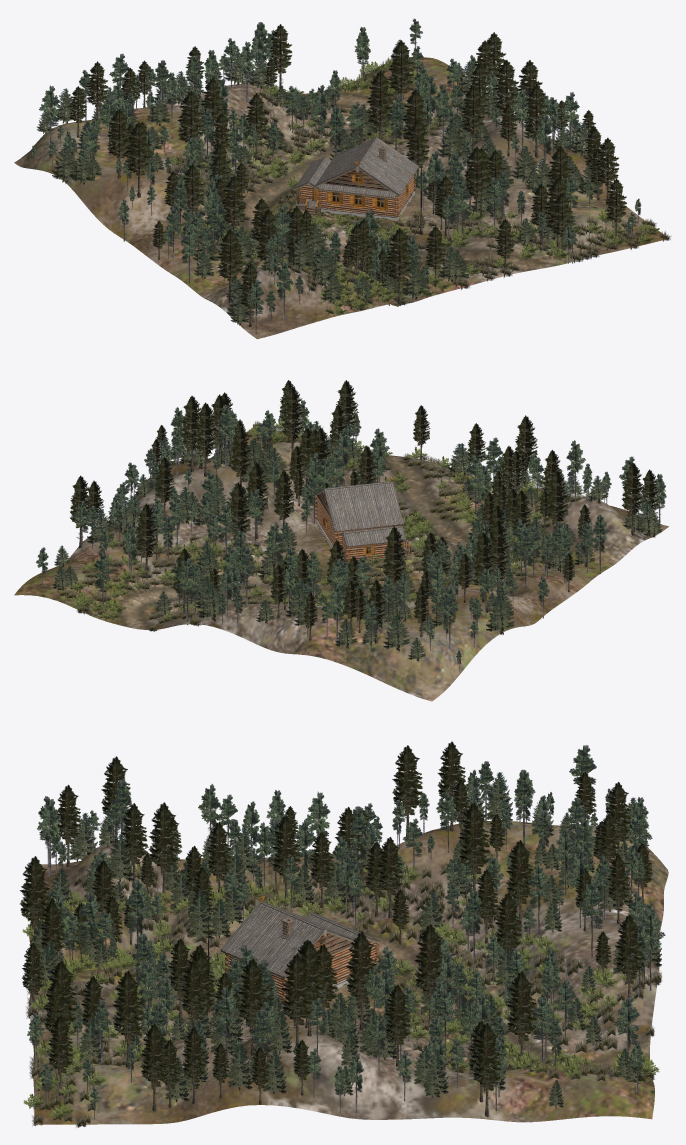
3 renders of one model, top to bottom at view 1: azimuth 30°, elevation 25°; view 2: azimuth 150°, elevation 25°; view 3: azimuth 270°, elevation 25°, orthographic. The views are drawn at different scales.
Parts seen in each view (by area): view 1: Plane.002, 05ade0e713892be558511d706fa6c547-no-bg-preview (carve.photos (×7), individual_roof_boards_20, rounded_wall_log_courses_29, Cylinder.058, walls_and_foundation_31, Cylinder.034, Cylinder.007, Cylinder.070, Cylinder.004, Cylinder.026, Cylinder.059 (+37 smaller); view 2: Plane.002, individual_roof_boards_20, 05ade0e713892be558511d706fa6c547-no-bg-preview (carve.photos (×5), rounded_wall_log_courses_29, Cylinder.071, Cylinder.073, Cylinder.026, Cylinder.070, Cylinder.004, Cylinder.012, Cylinder.058, Cylinder.077 (+23 smaller); view 3: Plane.002, 05ade0e713892be558511d706fa6c547-no-bg-preview (carve.photos (×23), individual_roof_boards_20, Cylinder.077, Cylinder.026, Cylinder.071, Cylinder.012, Cylinder.007, Cylinder.070, Cylinder.085, Cylinder.034, Cylinder.058 (+50 smaller).
Part boxes in pixels (x1,y1,x2,y2): Plane.002: (14,57,667,339); 05ade0e713892be558511d706fa6c547-no-bg-preview (carve.photos (×7): (39,41,471,260); individual_roof_boards_20: (295,138,418,198); rounded_wall_log_courses_29: (299,175,414,216); Cylinder.058: (366,71,393,139); walls_and_foundation_31: (321,169,414,220); Cylinder.034: (386,228,412,304); Cylinder.007: (126,122,151,197); Cylinder.070: (388,40,414,104); Cylinder.004: (217,229,242,302); Cylinder.026: (177,90,204,153); Cylinder.059: (464,146,489,219); Plane.002: (14,426,668,701); individual_roof_boards_20: (326,483,405,546); 05ade0e713892be558511d706fa6c547-no-bg-preview (carve.photos (×5): (176,404,585,649); rounded_wall_log_courses_29: (316,497,401,561); Cylinder.071: (281,386,304,460); Cylinder.073: (194,402,218,476); Cylinder.026: (382,526,406,602); Cylinder.070: (135,503,158,577); Cylinder.004: (622,462,644,536); Cylinder.012: (545,469,568,539); Cylinder.058: (227,482,251,560); Cylinder.077: (180,395,201,471); Plane.002: (29,820,668,1124); 05ade0e713892be558511d706fa6c547-no-bg-preview (carve.photos (×23): (37,745,665,1064); individual_roof_boards_20: (220,903,373,977); Cylinder.077: (281,953,312,1048); Cylinder.026: (458,802,491,890); Cylinder.071: (112,970,145,1067); Cylinder.012: (148,802,180,899); Cylinder.007: (392,745,424,842); Cylinder.070: (506,971,538,1063); Cylinder.085: (472,1023,503,1117); Cylinder.034: (19,856,50,948); Cylinder.058: (414,924,445,1023).
Size of the model in its own units: 9.96 by 2.78 by 9.74.
Materials: 21 (19 with a texture image).
